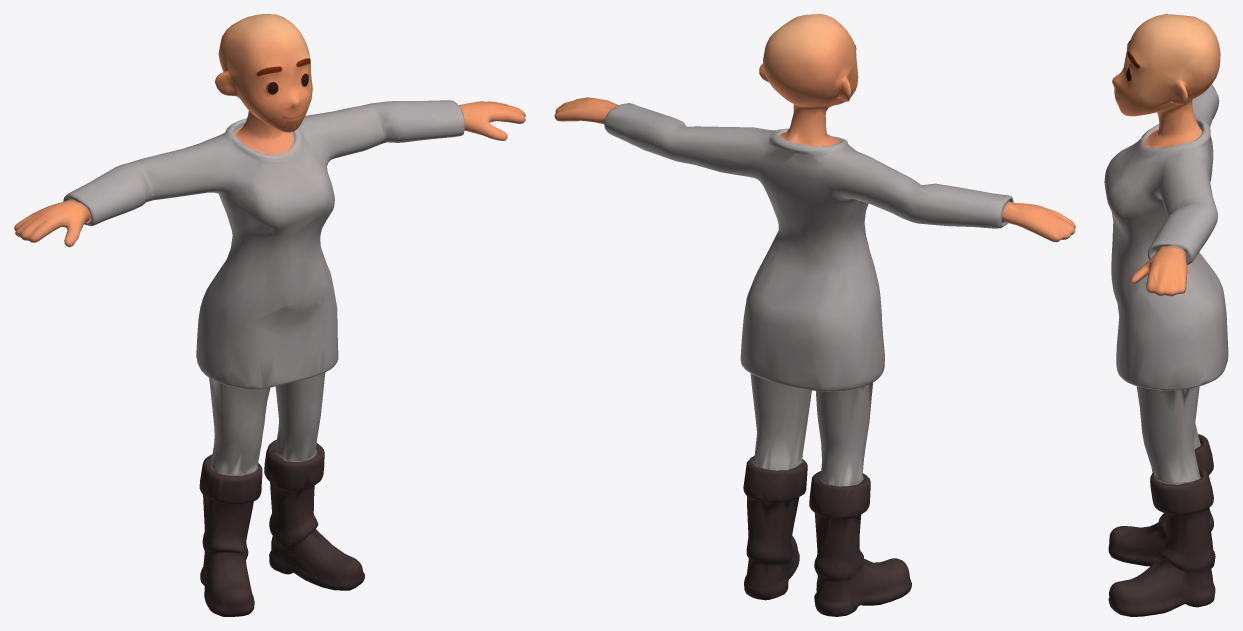
File: body_female.glb
3 views of the same model, side by side, from view 1: azimuth 30°, elevation 25°; view 2: azimuth 150°, elevation 25°; view 3: azimuth 270°, elevation 25° (orthographic).
Visible parts, largest first — view 1: tripo_node_b94d3d5c-ed6f-44b8-a1f8-c08e5e02c034; view 2: tripo_node_b94d3d5c-ed6f-44b8-a1f8-c08e5e02c034; view 3: tripo_node_b94d3d5c-ed6f-44b8-a1f8-c08e5e02c034.
Boxes of the visible parts, x1,y1,x2,y2 form: tripo_node_b94d3d5c-ed6f-44b8-a1f8-c08e5e02c034: (14,14,525,616); tripo_node_b94d3d5c-ed6f-44b8-a1f8-c08e5e02c034: (554,14,1075,616); tripo_node_b94d3d5c-ed6f-44b8-a1f8-c08e5e02c034: (1104,14,1228,616).
Size of the model in its own units: 0.9372 by 0.9997 by 0.1989.
1 material, 1 textured.
